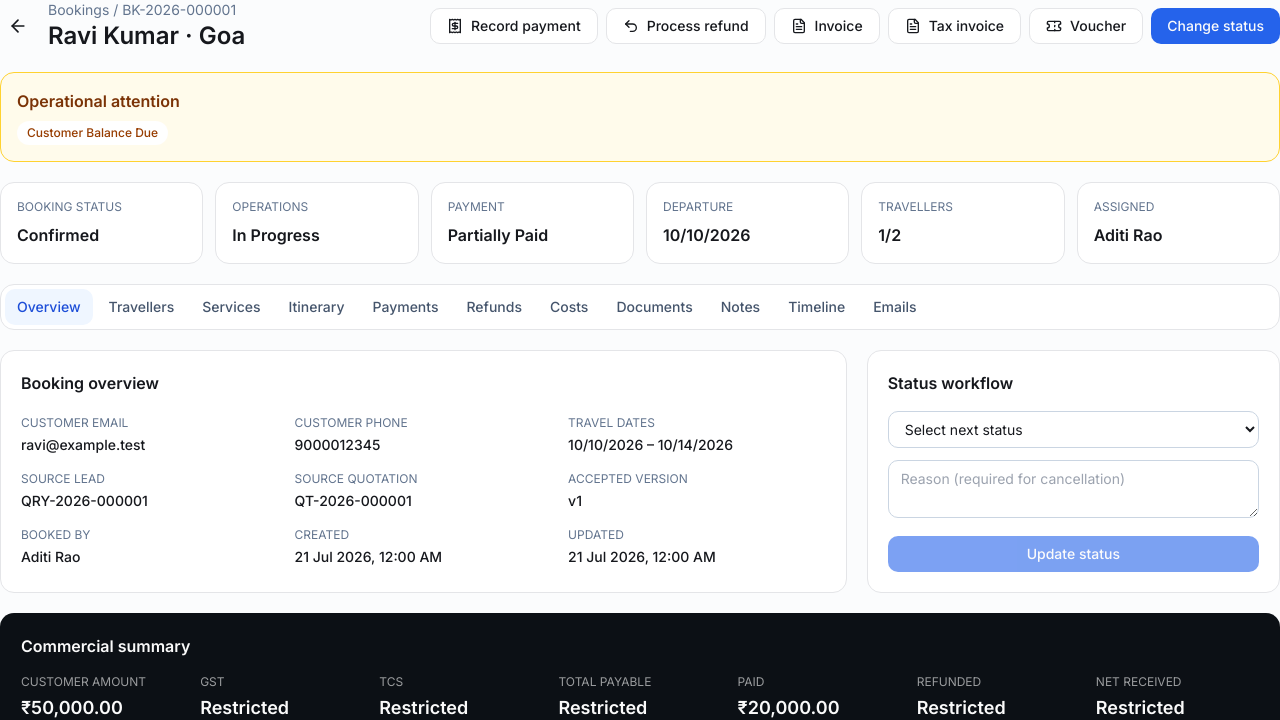
Test: Phase 15 booking commercial UI › renders an old booking with no commercial fields without crashing
Expected: the text "Bookings / BK-2026-000001" is shown, [48, 0, 245, 20]
Click the button "Services" at [231, 307], box [190, 289, 272, 325]
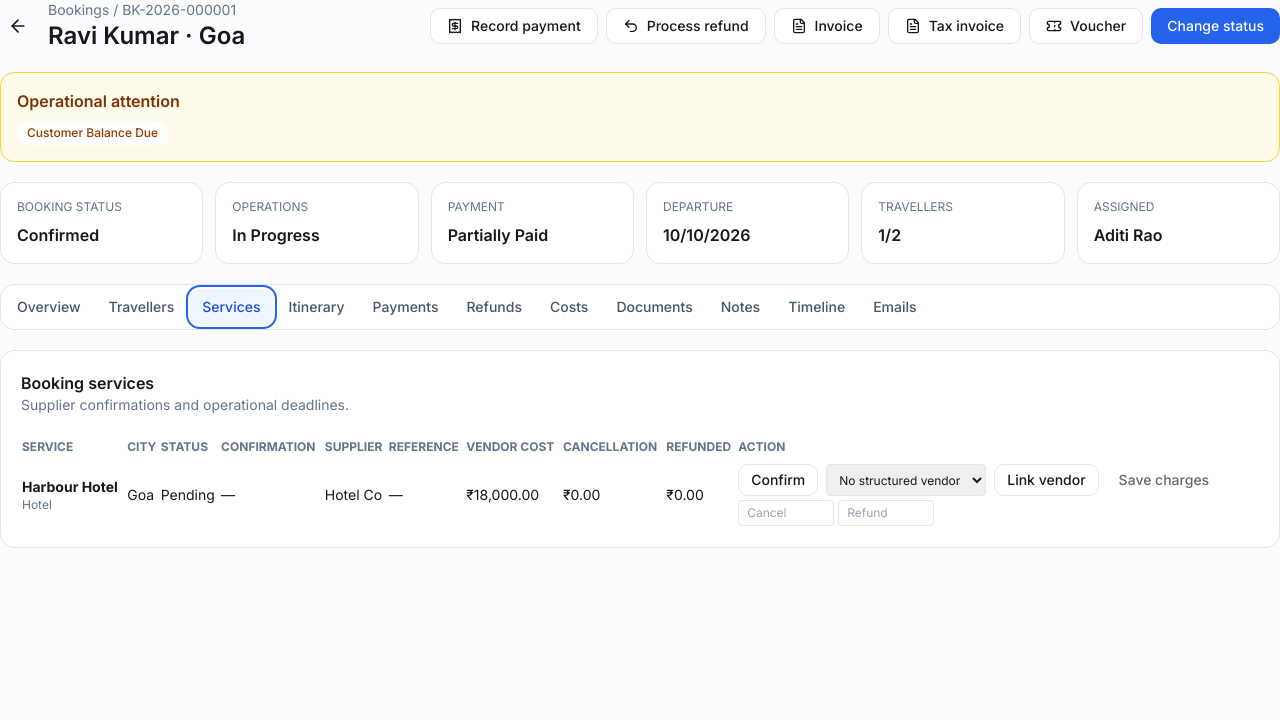
Result: the text "Harbour Hotel" is shown at [22, 477, 118, 497]
